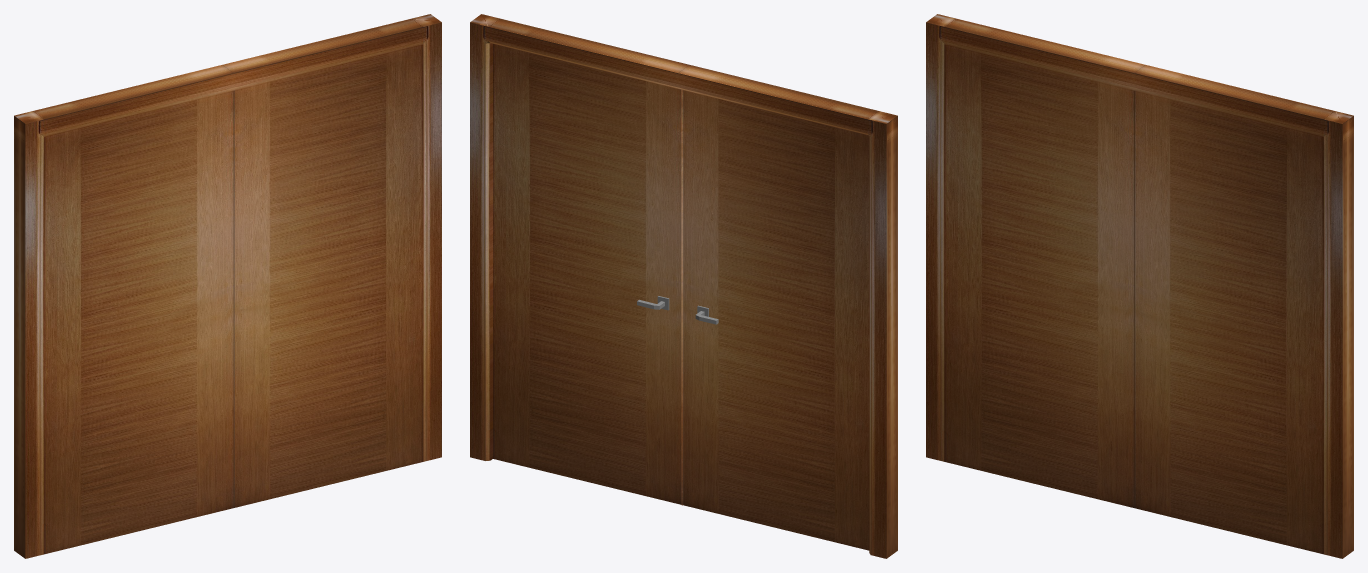
Rendered from Door.FBX.
The picture shows the model from 3 angles, left to right: view 1: azimuth 30°, elevation 25°; view 2: azimuth 150°, elevation 25°; view 3: azimuth 330°, elevation 25°; orthographic projection.
Parts seen in each view (by area): view 1: Object003; view 2: Object003; view 3: Object003.
Part boxes in pixels (left/top/right/bottom): Object003: left=14, top=14, right=441, bottom=558; Object003: left=470, top=14, right=897, bottom=558; Object003: left=926, top=14, right=1353, bottom=558.
Bounding box in the file's own units: 3.59 × 3.58 × 0.2165.
